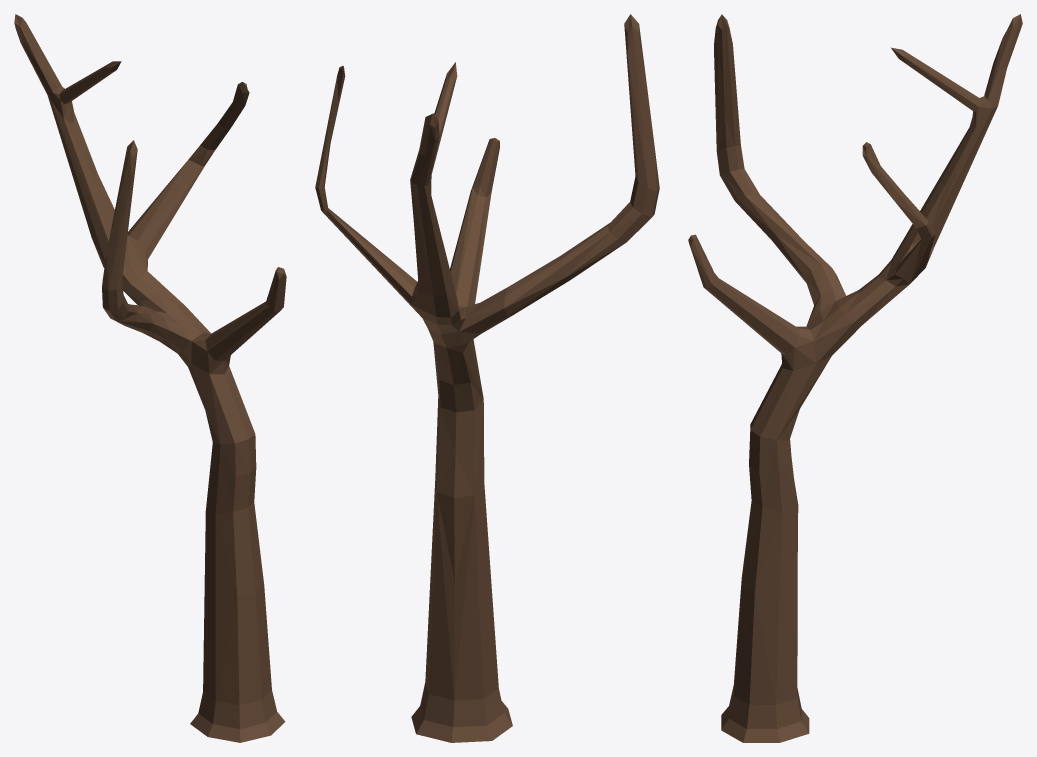
Rendered from CommonTree_Dead_4.glb.
3 views of the same model, side by side, from view 1: azimuth 30°, elevation 25°; view 2: azimuth 150°, elevation 25°; view 3: azimuth 270°, elevation 25° (orthographic). The views are drawn at different scales.
Parts seen in each view (by area): view 1: CommonTree_Dead_4; view 2: CommonTree_Dead_4; view 3: CommonTree_Dead_4.
Boxes of the visible parts, x1,y1,x2,y2 form: CommonTree_Dead_4: (14, 14, 286, 742); CommonTree_Dead_4: (315, 14, 659, 742); CommonTree_Dead_4: (688, 14, 1022, 742).
Size of the model in its own units: 0.8161 by 2.37 by 1.08.
